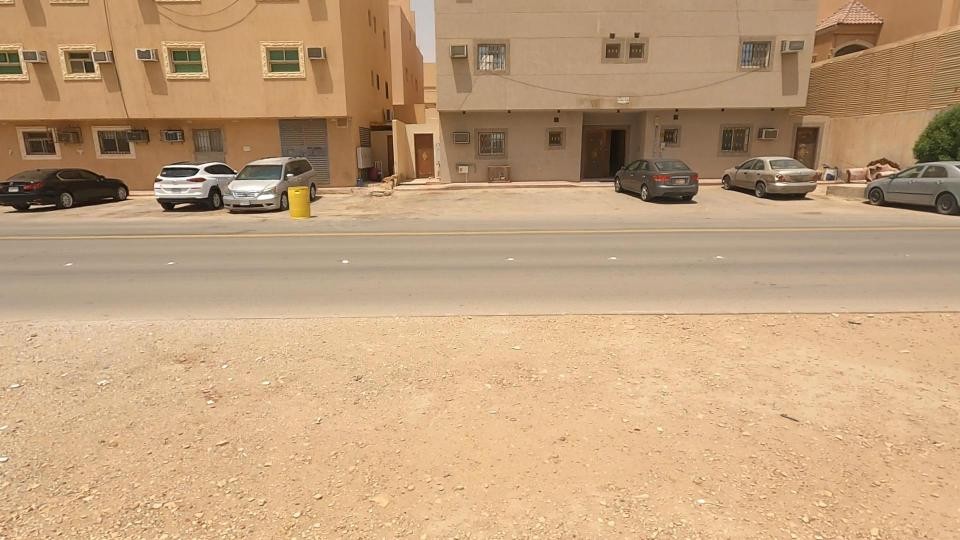CLUTTER_SIDEWALK: (219, 250, 960, 540), (0, 277, 446, 540)
